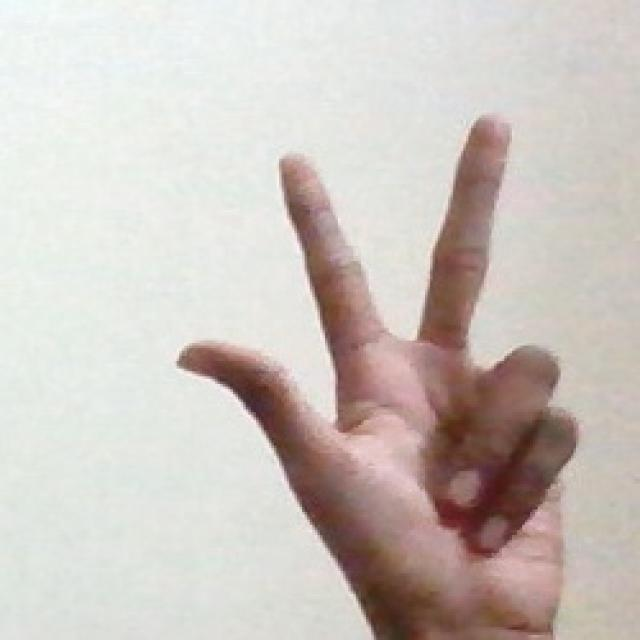Numeric-3: (184, 113, 567, 625)
